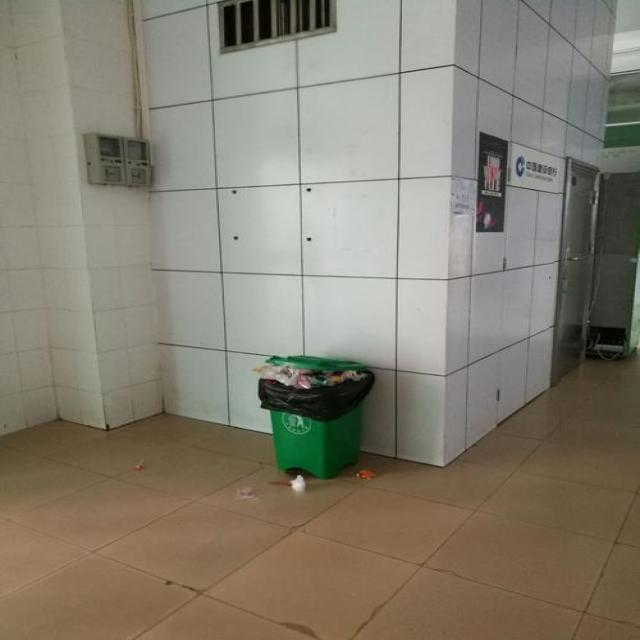garbage: (236, 475, 302, 500)
overflow: (254, 355, 376, 479)
